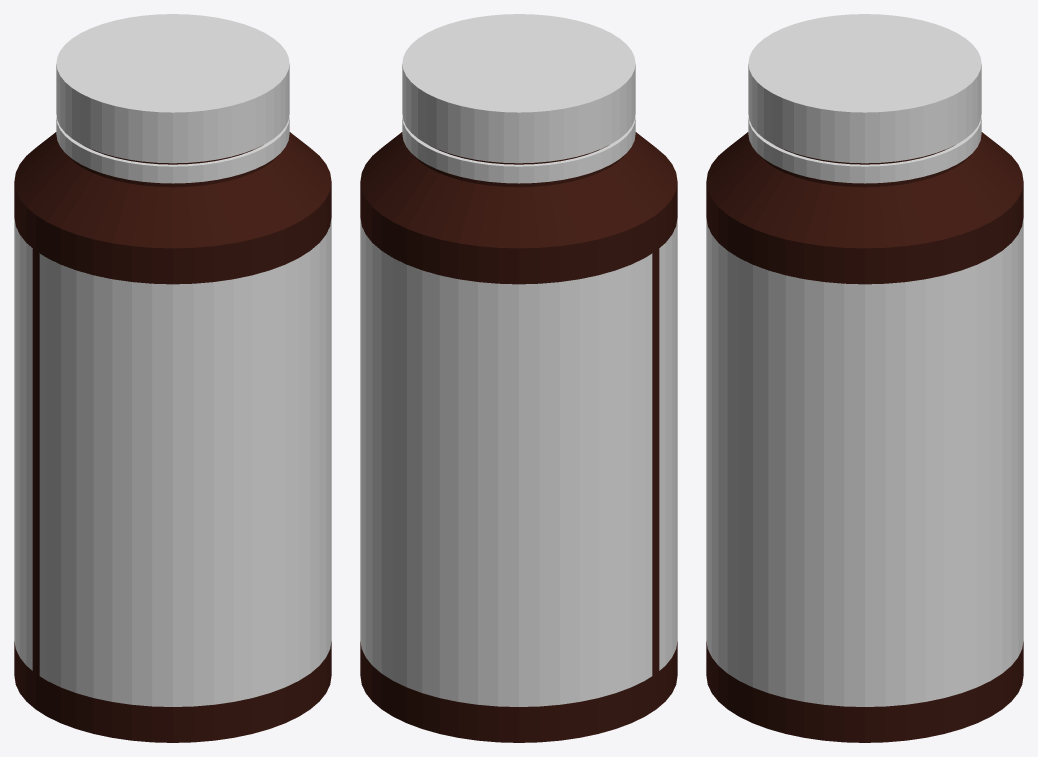
The model's file is bottle-lf.glb.
3 views of the same model, side by side, from view 1: azimuth 30°, elevation 25°; view 2: azimuth 150°, elevation 25°; view 3: azimuth 270°, elevation 25° (orthographic).
Visible parts, largest first — view 1: paper, bottle-lf, lid, lid2; view 2: paper, bottle-lf, lid, lid2; view 3: paper, bottle-lf, lid, lid2.
Part boxes in pixels (x1,y1,x2,y2): paper: (14,218,331,706); bottle-lf: (14,132,331,742); lid: (56,14,289,163); lid2: (56,116,289,183); paper: (360,218,677,706); bottle-lf: (360,132,677,742); lid: (402,14,635,163); lid2: (402,116,635,183); paper: (706,218,1023,706); bottle-lf: (706,132,1023,742); lid: (748,14,981,163); lid2: (748,116,981,183).
Bounding box in the file's own units: 0.068 × 0.1449 × 0.068.
